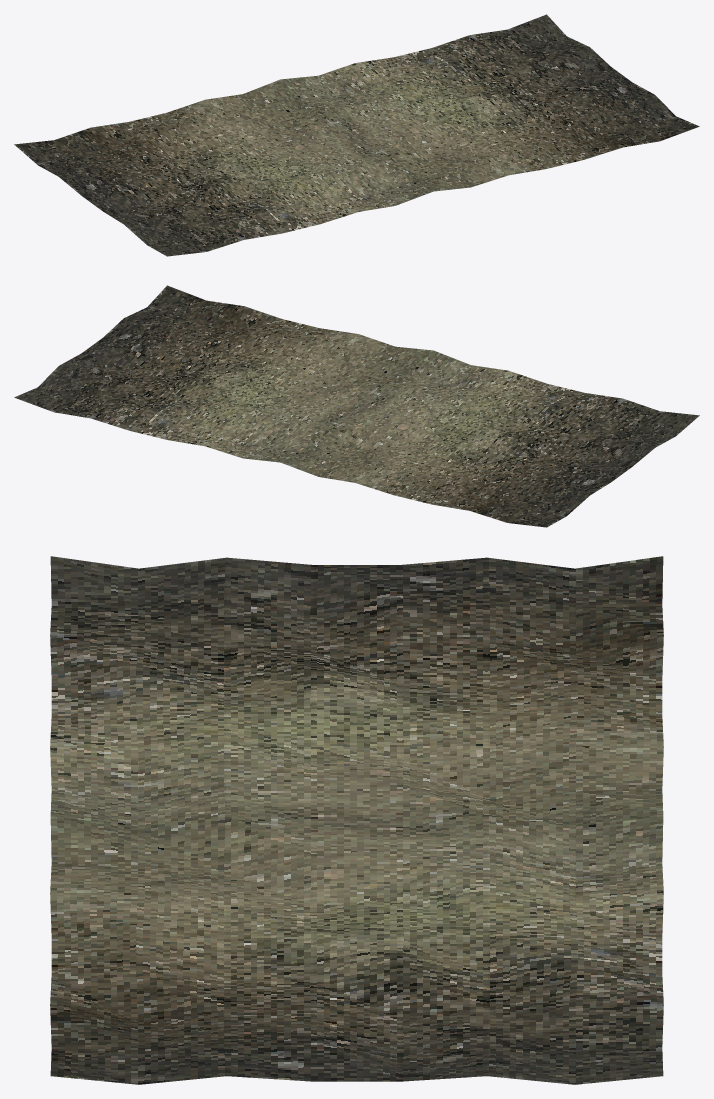
The model's file is FloorSegment.glb.
The picture shows the model from 3 angles, top to bottom: view 1: azimuth 30°, elevation 25°; view 2: azimuth 150°, elevation 25°; view 3: azimuth 270°, elevation 25°; orthographic projection. The views are drawn at different scales.
Parts seen in each view (by area): view 1: Plane.032; view 2: Plane.032; view 3: Plane.032.
Boxes of the visible parts, <box> form: Plane.032: <box>14,14,699,256</box>; Plane.032: <box>14,285,699,527</box>; Plane.032: <box>50,556,663,1084</box>.
Bounding box in the file's own units: 18.13 × 0.3265 × 9.04.
Materials: 1 (1 with a texture image).
